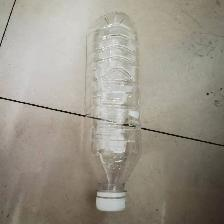bottle: (25, 8, 207, 211)
